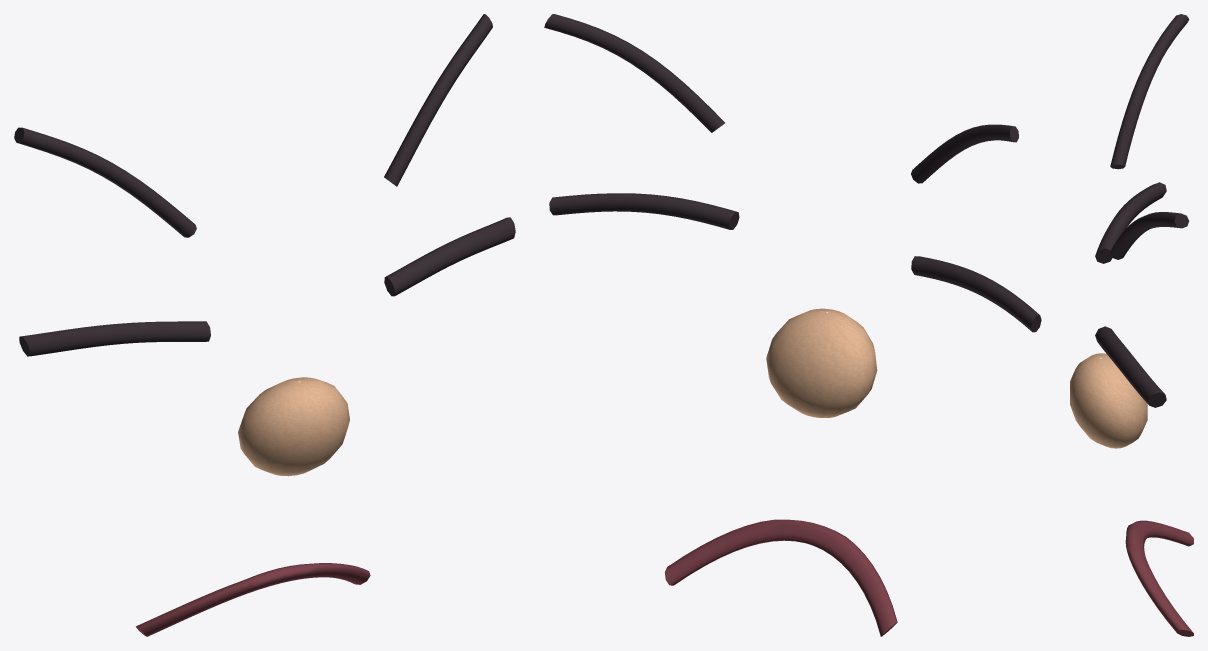
File: face_fed_up.gltf
3 views of the same model, side by side, from view 1: azimuth 30°, elevation 25°; view 2: azimuth 150°, elevation 25°; view 3: azimuth 270°, elevation 25° (orthographic). The views are drawn at different scales.
Visible parts, largest first — view 1: Fed Up; view 2: Fed Up; view 3: Fed Up.
Boxes of the visible parts, box(x1,y1,x2,y2) form: Fed Up: box(14, 14, 515, 636); Fed Up: box(544, 14, 1041, 636); Fed Up: box(1070, 14, 1193, 636).
Size of the model in its own units: 0.2655 by 0.2817 by 0.0662.
Materials: 3 (3 with a texture image).
